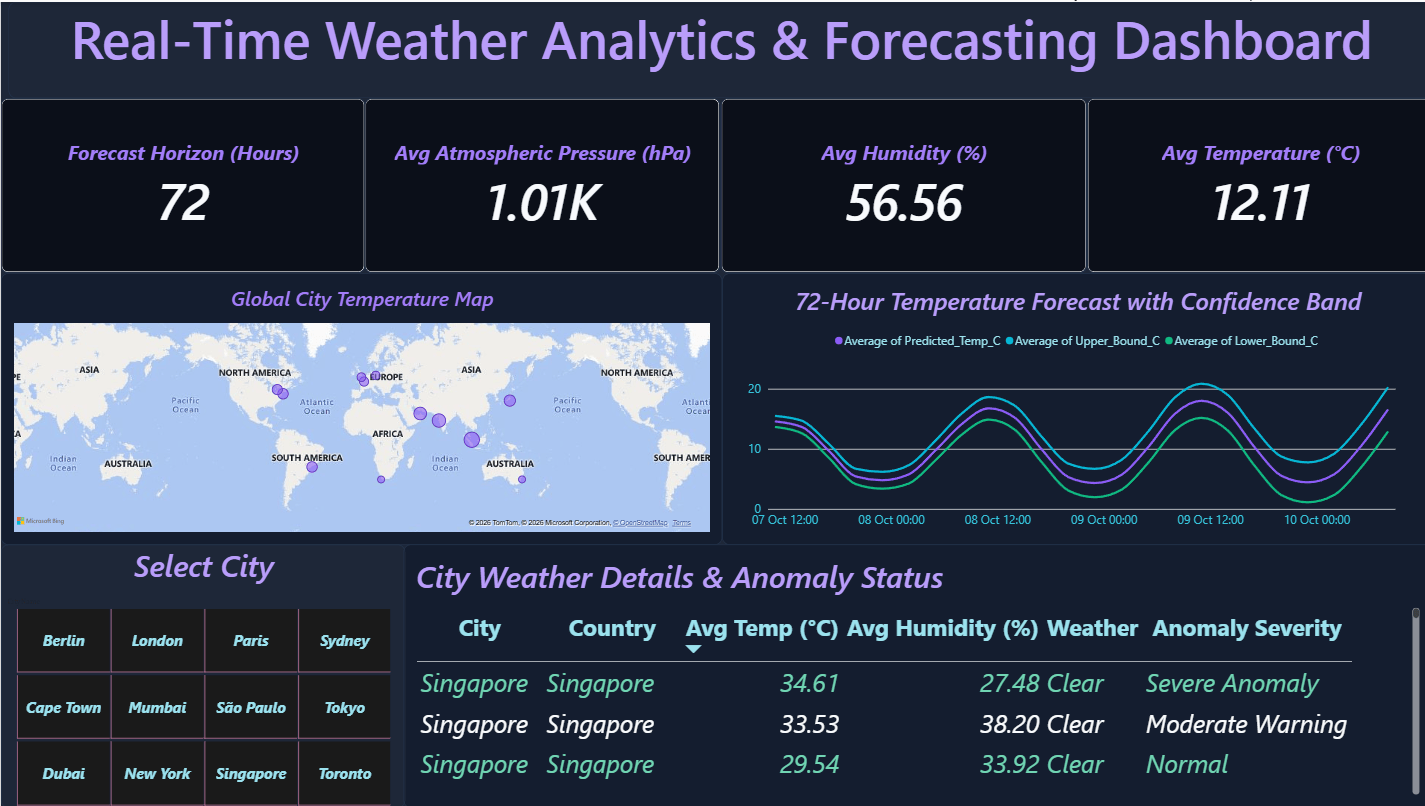

The dashboard page shown, as its layout file describes it:
{"tool":"powerbi","page":{"name":"Page 1","canvas":[1920,1080],"ordinal":0},"visuals":[{"type":"textbox","title":"Real-Time Weather Analytics & Forecasting Dashboard","box":[10.5,0,1909.9,129.1],"z":0},{"type":"cardVisual","fields":{"Data":["Avg(fact_weather_observations.Temperature_C)"]},"box":[1455,128.7,465.4,234.6],"z":1},{"type":"cardVisual","fields":{"Data":["Avg(fact_weather_observations.Humidity_Pct)"]},"box":[964.9,128.7,490,234.6],"z":2},{"type":"cardVisual","fields":{"Data":["Avg(fact_weather_observations.Pressure_hPa)"]},"box":[488.1,128.7,476.8,234.6],"z":3},{"type":"cardVisual","fields":{"Data":["Max(fact_weather_forecasts.Horizon_Hours)"]},"box":[0,128.7,488.1,234.6],"z":4},{"type":"map","title":"Global City Temperature Map","fields":{"Size":["Avg(fact_weather_observations.Temperature_C)"],"X":["dim_city.Longitude"],"Y":["dim_city.Latitude"]},"box":[0,363.7,966.7,363.7],"z":5},{"type":"lineChart","title":"72-Hour Temperature Forecast with Confidence Band","fields":{"Category":["fact_weather_forecasts.ForecastTimestamp"],"Y":["Avg(fact_weather_forecasts.Predicted_Temp_C)","Avg(fact_weather_forecasts.Upper_Bound_C)","Avg(fact_weather_forecasts.Lower_Bound_C)"]},"box":[966.7,363.7,953.7,363.7],"z":6},{"type":"tableEx","title":"City Weather Details & Anomaly Status","fields":{"Values":["dim_city.CityName","dim_city.Country","Avg(fact_weather_observations.Temperature_C)","Avg(fact_weather_observations.Humidity_Pct)","fact_weather_observations.WeatherCondition","fact_weather_observations.Anomaly_Severity"]},"box":[539.3,726.9,1378.6,352.5],"z":7},{"type":"slicer","title":"Select City","fields":{"Values":["dim_city.CityName"]},"box":[0,727.3,541.8,352.5],"z":8}]}

Visuals, with their boxes in screenshot pixels (x1, y1, x2, y2), scaled from the page's 1920x1080 canvas onto the 1425x806 screenshot:
"Real-Time Weather Analytics & Forecasting Dashboard" textbox: BBox(8, 0, 1424, 96)
cardVisual - Avg(fact_weather_observations.Temperature_C): BBox(1080, 96, 1424, 271)
cardVisual - Avg(fact_weather_observations.Humidity_Pct): BBox(716, 96, 1080, 271)
cardVisual - Avg(fact_weather_observations.Pressure_hPa): BBox(362, 96, 716, 271)
cardVisual - Max(fact_weather_forecasts.Horizon_Hours): BBox(0, 96, 362, 271)
"Global City Temperature Map" map: BBox(0, 271, 717, 543)
"72-Hour Temperature Forecast with Confidence Band" lineChart: BBox(717, 271, 1424, 543)
"City Weather Details & Anomaly Status" tableEx: BBox(400, 542, 1423, 805)
"Select City" slicer: BBox(0, 543, 402, 805)
